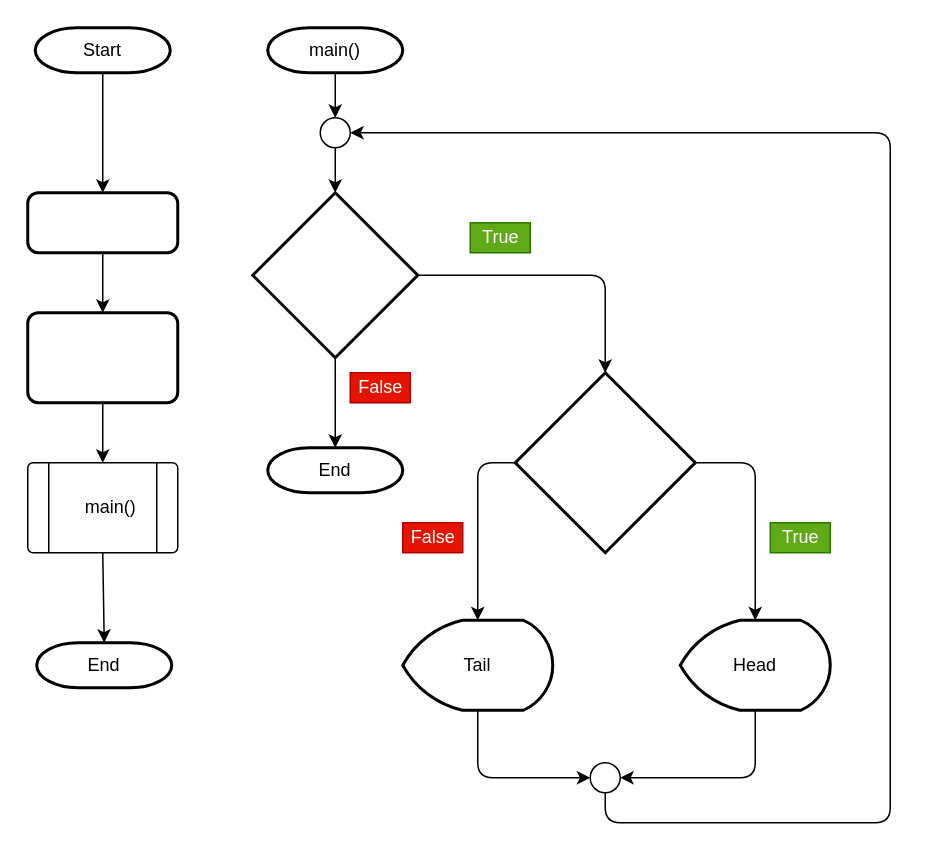
This 929x861 diagram has some shape labels left out. The shapes that lost their labels are listed below. From the top down, each one's centre as x and y in pixels, then its label:
the point at 102,222: import random
the point at 334,274: toss in range(TOSSES)
the point at 102,357: HEADS = 1 TALLS = 2 TOSSES = 10
the point at 604,462: random.randint(HEADS, TALLS) == HEADS
